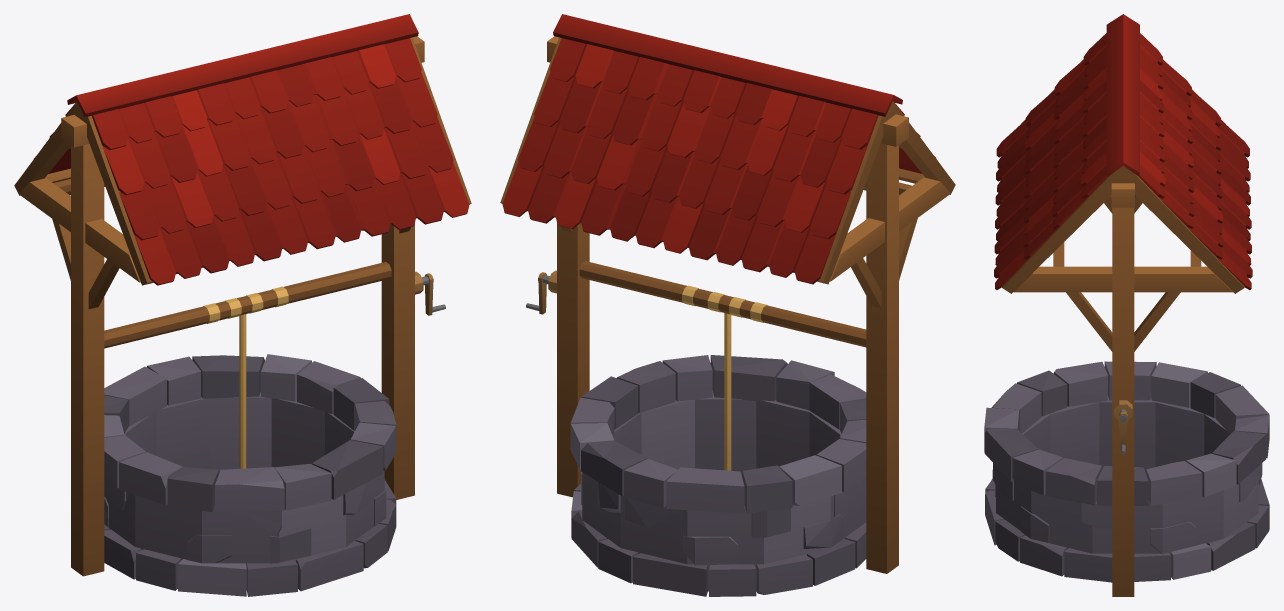
The model's file is Bld_Well_02.obj.
The picture shows the model from 3 angles, left to right: view 1: azimuth 30°, elevation 25°; view 2: azimuth 150°, elevation 25°; view 3: azimuth 270°, elevation 25°; orthographic projection. The views are drawn at different scales.
Visible parts, largest first — view 1: Bld_Well_02, Bld_Well_Crank_02; view 2: Bld_Well_02, Bld_Well_Crank_02; view 3: Bld_Well_02, Bld_Well_Crank_02.
Part boxes in pixels (<box>): Bld_Well_02: <box>14,14,471,596</box>; Bld_Well_Crank_02: <box>415,271,445,315</box>; Bld_Well_02: <box>500,14,955,596</box>; Bld_Well_Crank_02: <box>526,270,556,314</box>; Bld_Well_02: <box>984,14,1269,596</box>; Bld_Well_Crank_02: <box>1114,400,1132,454</box>.
Size of the model in its own units: 2.67 by 3.23 by 1.92.
1 material, 1 textured.
